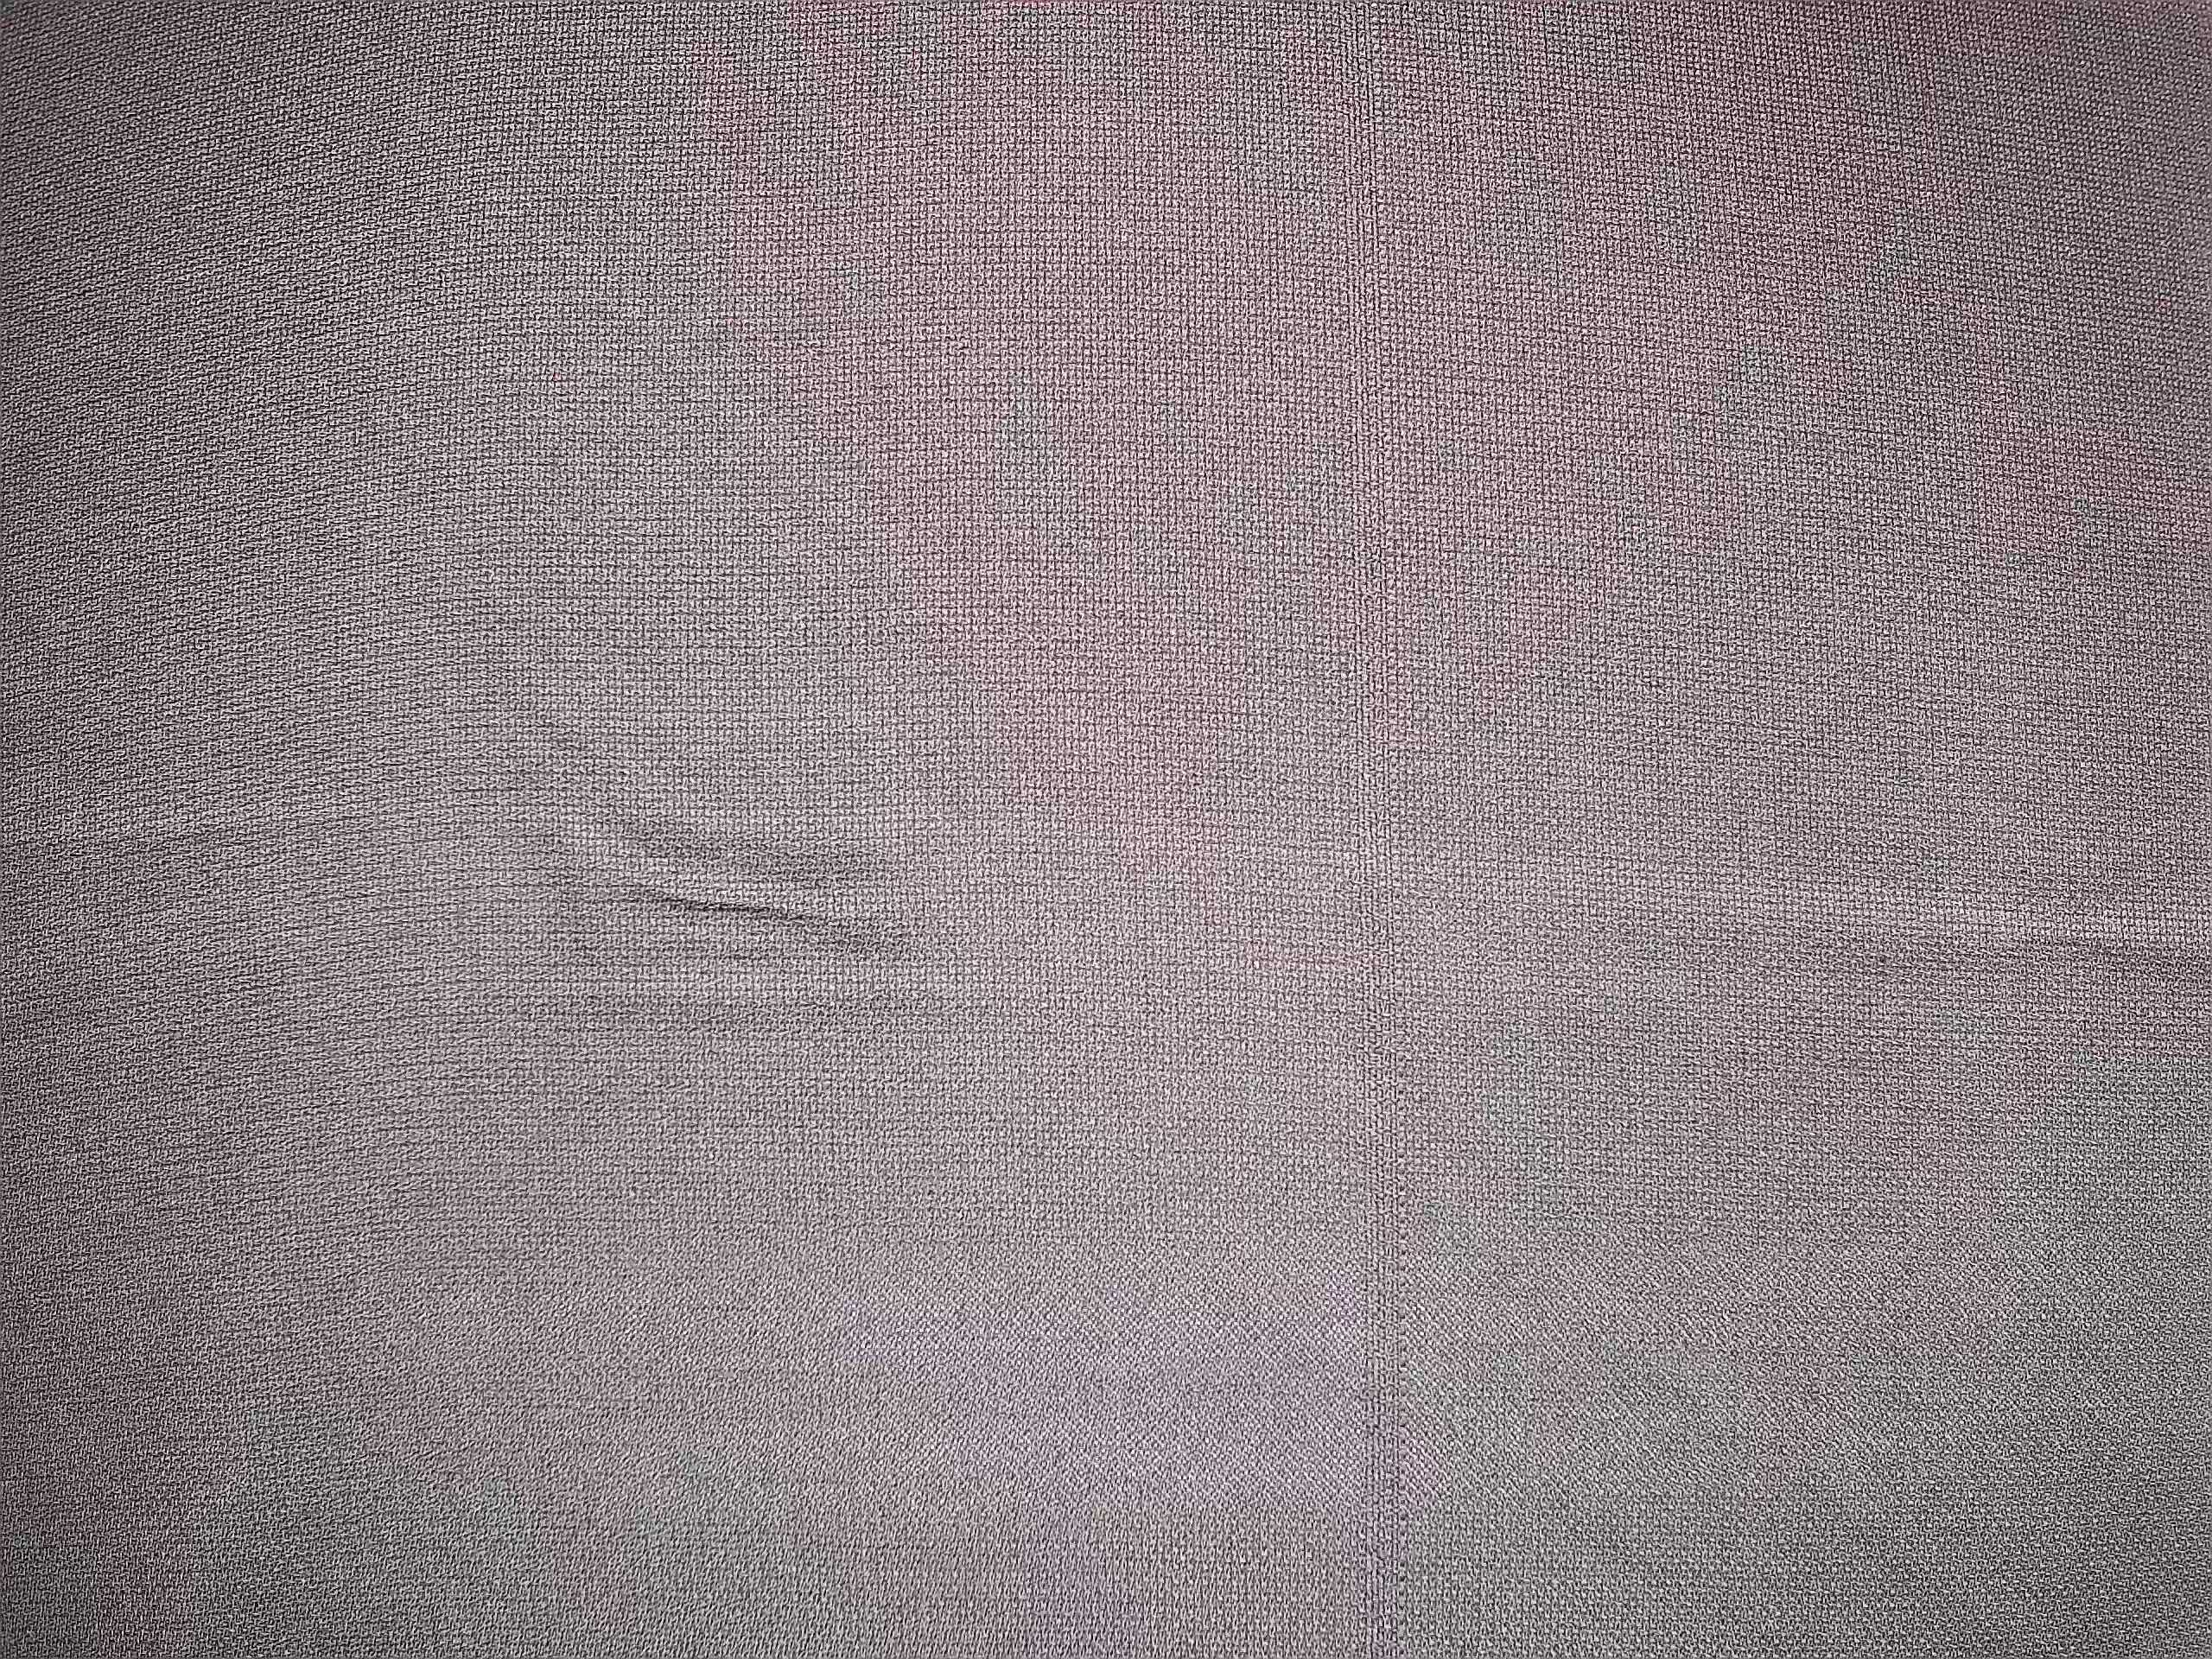lacking-warp: (1331, 5, 1425, 1650)
